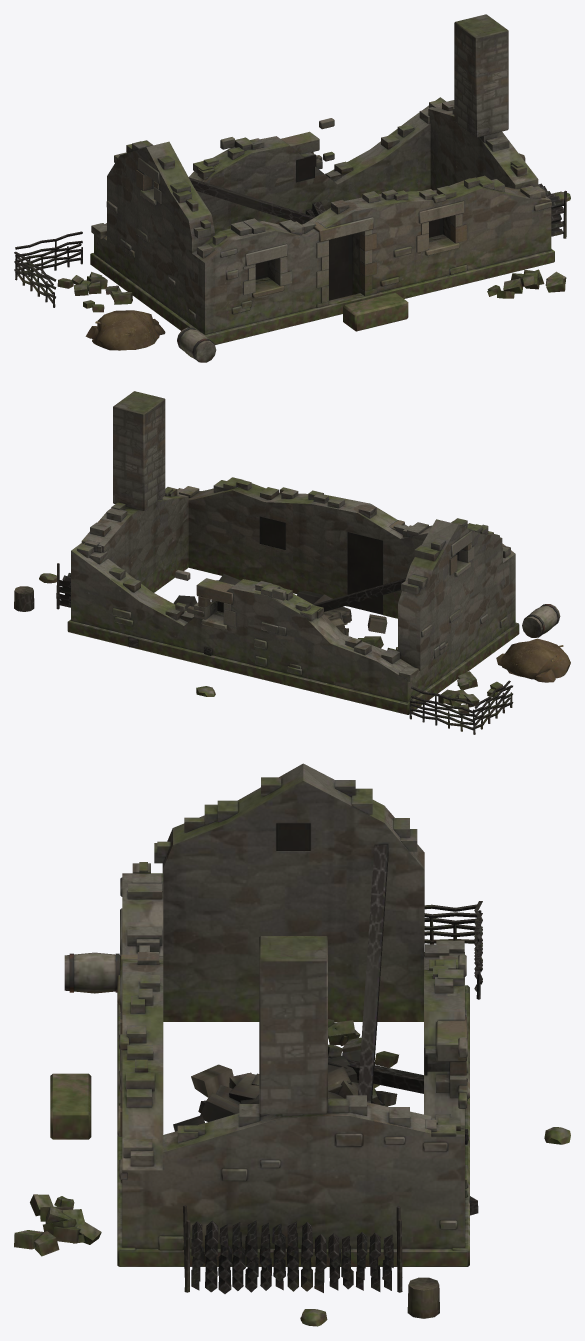
File: house_c_ruin.glb
3 renders of one model, top to bottom at view 1: azimuth 30°, elevation 25°; view 2: azimuth 150°, elevation 25°; view 3: azimuth 270°, elevation 25°, orthographic. The views are drawn at different scales.
Visible parts, largest first — view 1: house_c_ruin_LOD0; view 2: house_c_ruin_LOD0; view 3: house_c_ruin_LOD0.
Part boxes in pixels (bbox=[...]): house_c_ruin_LOD0: bbox=[14, 14, 570, 362]; house_c_ruin_LOD0: bbox=[14, 391, 570, 734]; house_c_ruin_LOD0: bbox=[14, 763, 570, 1326].
Size of what is drawn, in the model's own units: 13.19 by 4.94 by 8.12.
Materials: 1 (1 with a texture image).
